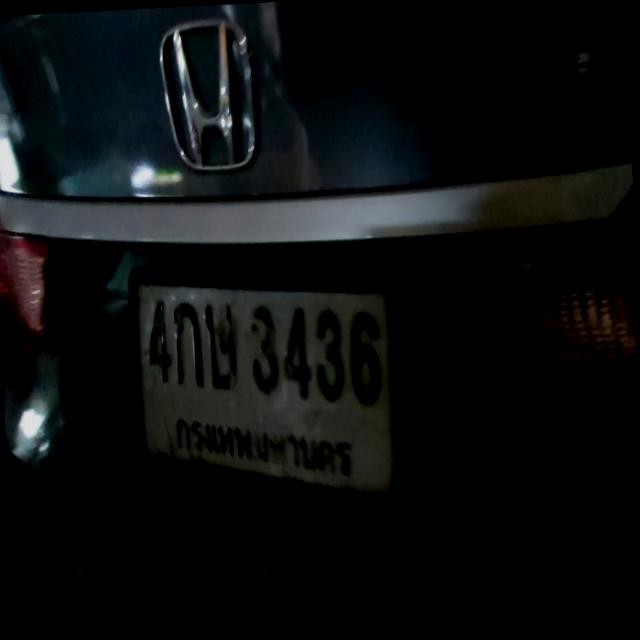license_plate: (135, 270, 400, 520)
